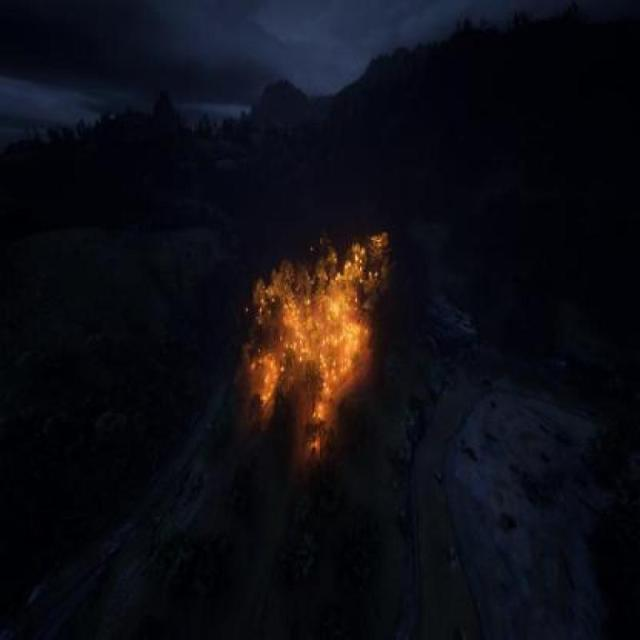Fire: (244, 250, 379, 442)
